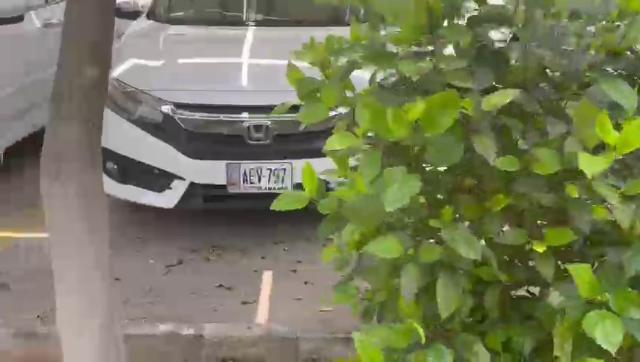plate: (222, 160, 292, 194)
